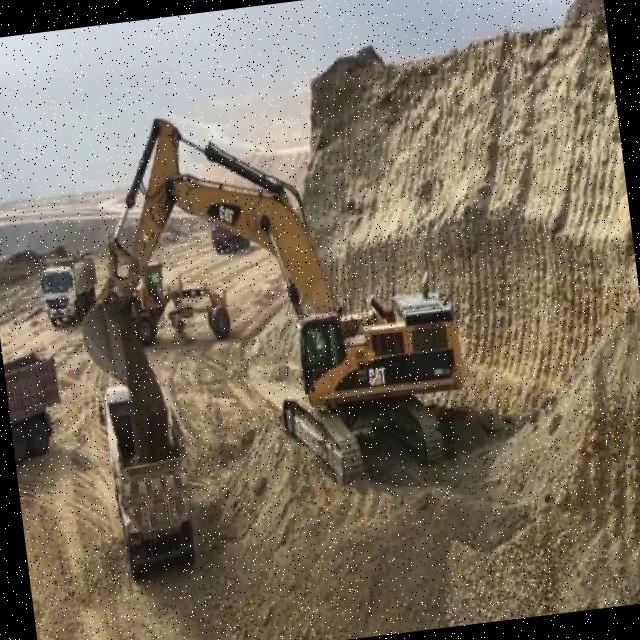Dump Truck: (100, 376, 198, 578), (1, 342, 70, 462), (37, 249, 100, 331), (210, 214, 252, 255)
Excavator: (53, 75, 480, 523)
